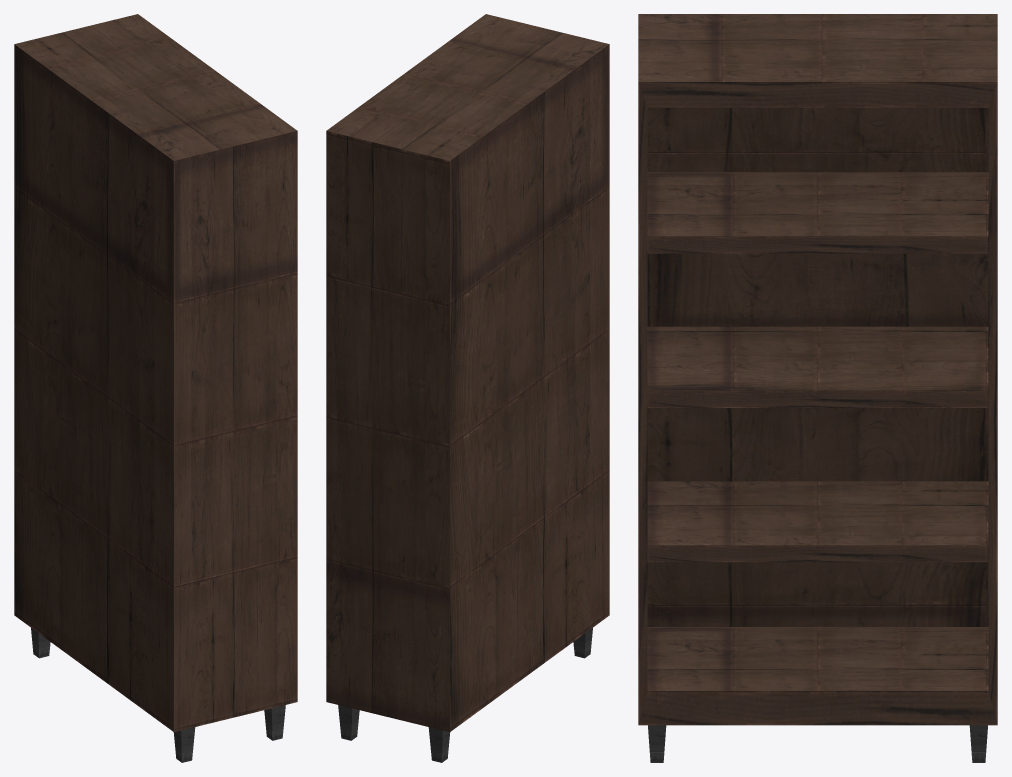
The model's file is dest_glo_bookshelf_wood01_lod0.glb.
3 views of the same model, side by side, from view 1: azimuth 30°, elevation 25°; view 2: azimuth 150°, elevation 25°; view 3: azimuth 270°, elevation 25° (orthographic). The views are drawn at different scales.
Parts seen in each view (by area): view 1: surf0; view 2: surf0; view 3: surf0.
Part boxes in pixels (x1,y1,x2,y2): surf0: [14, 14, 297, 762]; surf0: [326, 14, 609, 762]; surf0: [638, 14, 997, 762].
Size of the model in its own units: 17 by 80 by 38.
